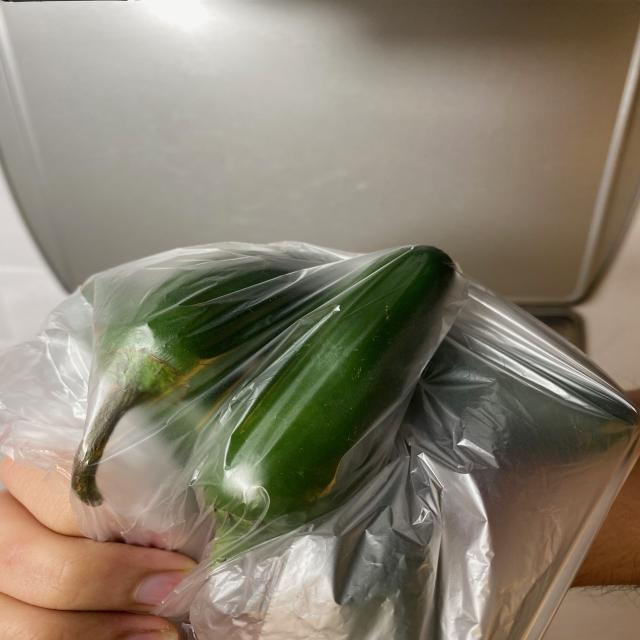chilli: (48, 232, 626, 599)
